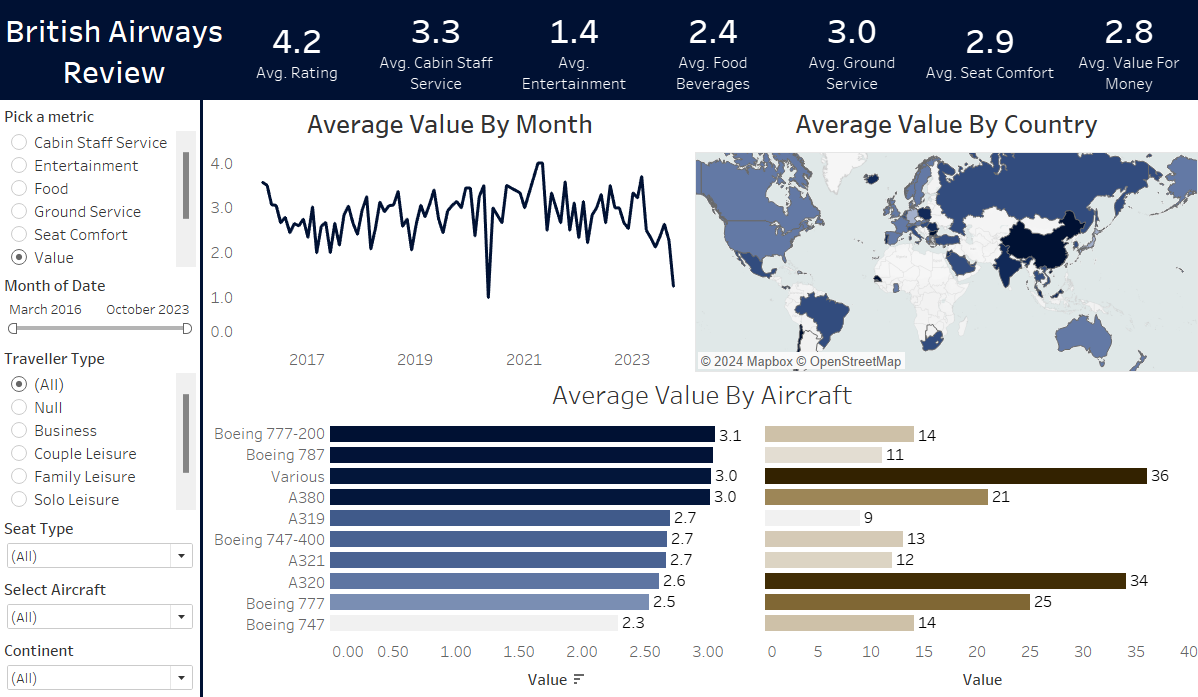

What the dashboard file says about the page in this screenshot:
{"tool":"tableau","page":{"name":"Dashboard 1","canvas":[1200,700],"ordinal":0},"visuals":[{"type":"text","box":[0,0,228,100]},{"type":"worksheet","title":"Summary","mark":"Automatic","box":[228,0,970,100]},{"type":"blank","box":[200,100,3,600]},{"type":"parameter","param":"[Parameters].[Parameter 1]","box":[0,102,200,169.5]},{"type":"worksheet","title":"Month","mark":"Line","rows":["Calculation_894808969016709121"],"cols":["date"],"box":[210,102,485,270]},{"type":"worksheet","title":"Average ","mark":"Automatic","box":[695,102,503,270]},{"type":"filter","title":"Average ","param":"[federated.17zf7yq1js688n1h1i9j40a1cc7a].[tmn:date:qk]","box":[0,271.5,200,73]},{"type":"filter","title":"Average ","param":"[federated.17zf7yq1js688n1h1i9j40a1cc7a].[none:traveller_type:nk]","box":[0,344.5,200,169.5]},{"type":"worksheet","title":"Aircraft","mark":"Automatic","cols":["Calculation_894808969016709121","Countries.csv_41B7F69EC39042BB97E53D66B348D36F"],"box":[210,373,990,325]},{"type":"filter","title":"Average ","param":"[federated.17zf7yq1js688n1h1i9j40a1cc7a].[none:seat_type:nk]","box":[0,514,200,61]},{"type":"filter","title":"Average ","param":"[federated.17zf7yq1js688n1h1i9j40a1cc7a].[Aircraft (group)]","box":[0,575,200,61]},{"type":"filter","title":"Average ","param":"[federated.17zf7yq1js688n1h1i9j40a1cc7a].[none:Continent:nk]","box":[0,636,200,61]}]}

Visuals, with their boxes in screenshot pixels (x1, y1, x2, y2), scaled from the page's 1200x700 canvas onto the 1198x697 screenshot:
text: x1=0, y1=0, x2=228, y2=100
"Summary" worksheet: x1=228, y1=0, x2=1196, y2=100
blank: x1=200, y1=100, x2=203, y2=696
parameter: x1=0, y1=102, x2=200, y2=270
"Month" worksheet (Line marks): x1=210, y1=102, x2=694, y2=370
"Average " worksheet: x1=694, y1=102, x2=1196, y2=370
"Average " filter: x1=0, y1=270, x2=200, y2=343
"Average " filter: x1=0, y1=343, x2=200, y2=512
"Aircraft" worksheet: x1=210, y1=371, x2=1197, y2=695
"Average " filter: x1=0, y1=512, x2=200, y2=573
"Average " filter: x1=0, y1=573, x2=200, y2=633
"Average " filter: x1=0, y1=633, x2=200, y2=694
